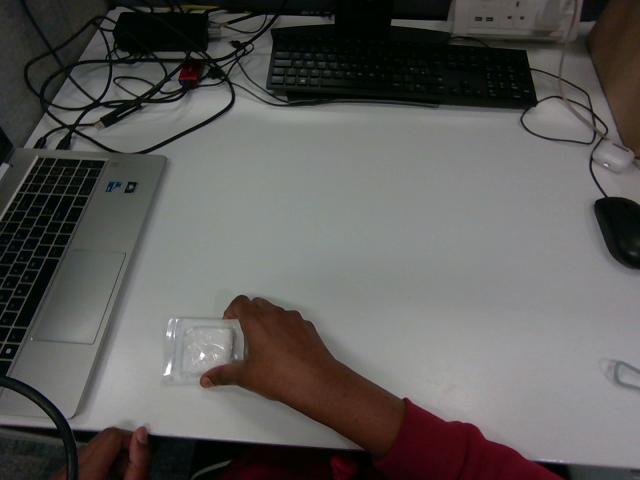gauze: (163, 318, 243, 383)
